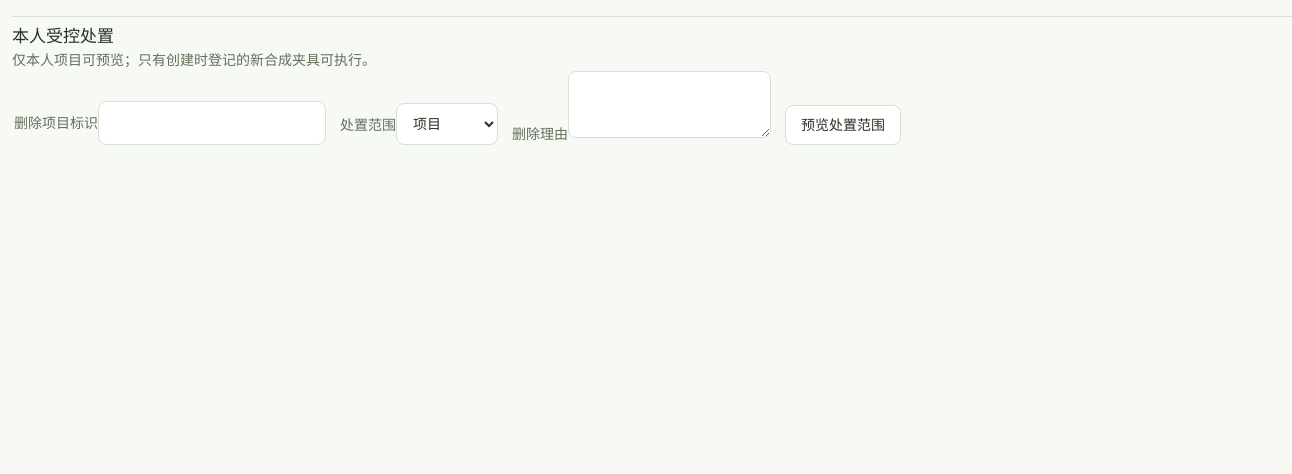
Test: renders a known per-object deletion error rather than the generic fallback
Type "p1" into the field labelled "删除项目标识". click: (212, 123)
box: [98,102,326,145]
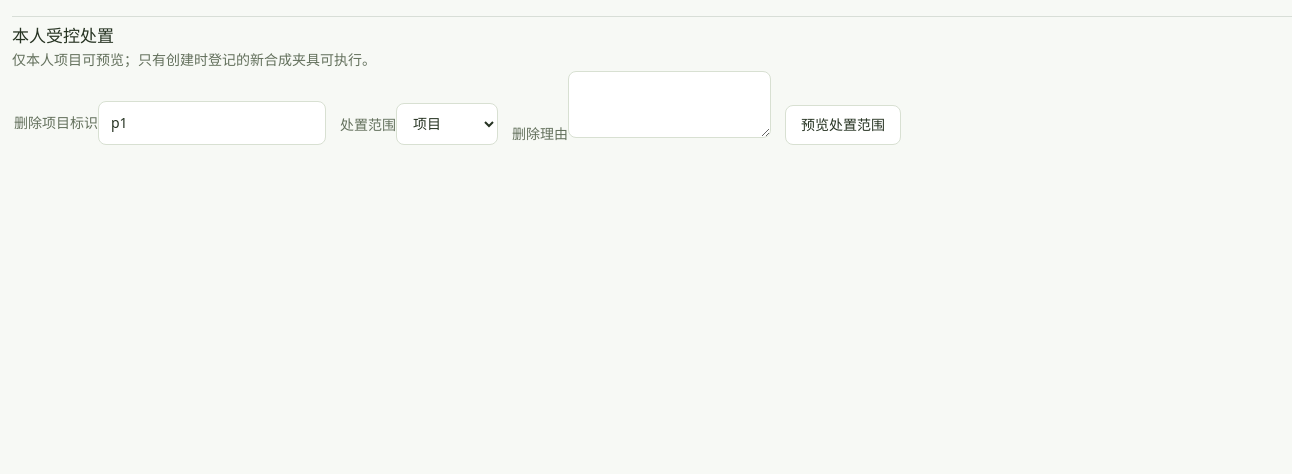
Type "用户理由" into the text box labelled "删除理由". click: (670, 105)
box: [568,71,771,138]
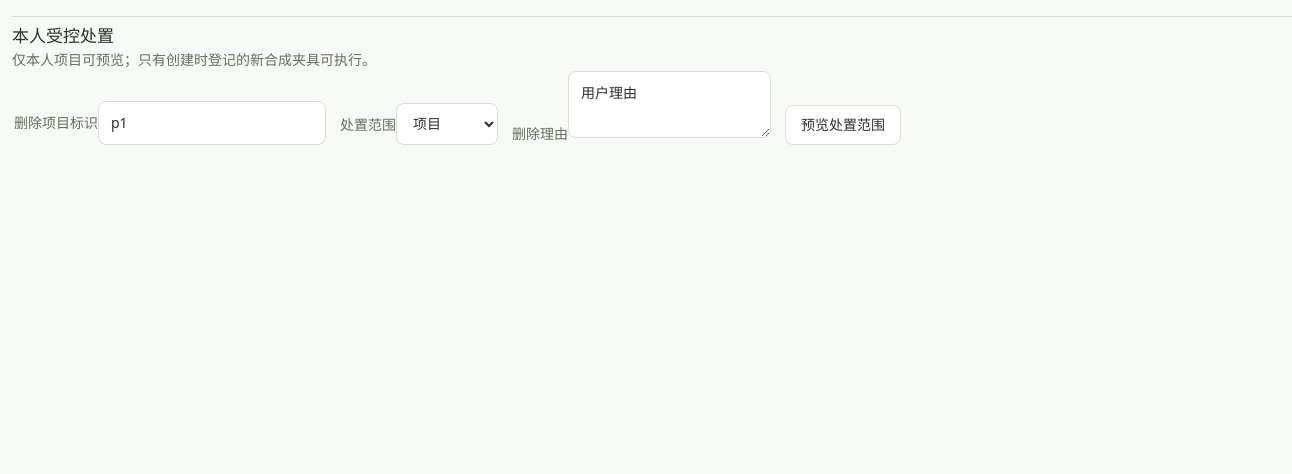
Click the button "预览处置范围". click: (843, 125)
box: [785,105,901,145]
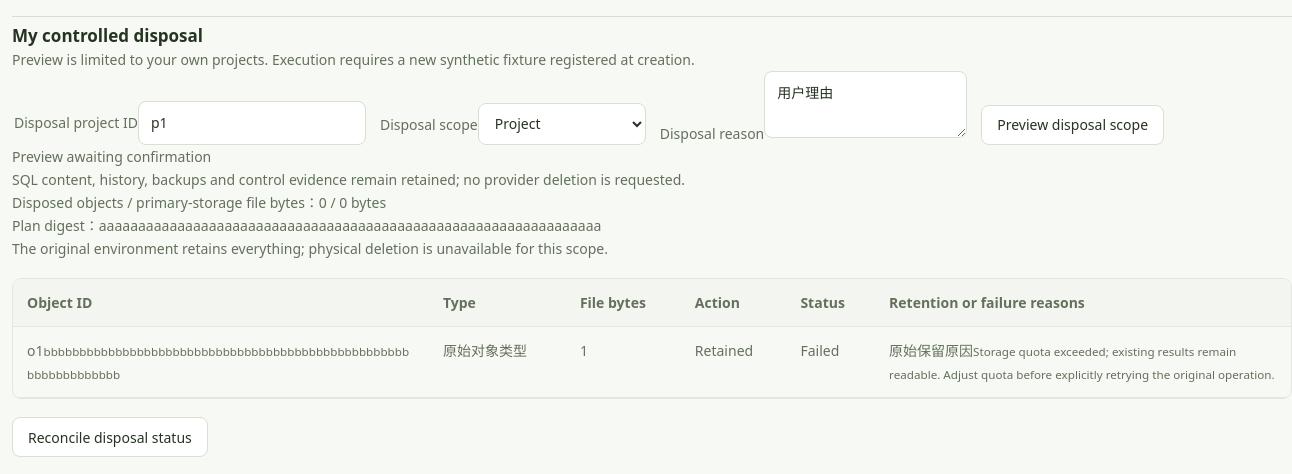
Now the text "Storage quota exceeded; existing results remain readable. Adjust quota before explicitly retrying the original operation" is shown, box [889,344,1275,382]
Now the text "原始对象类型" is shown, box [429,327,566,398]
Now the text "原始保留原因" is shown, box [889,341,973,360]
